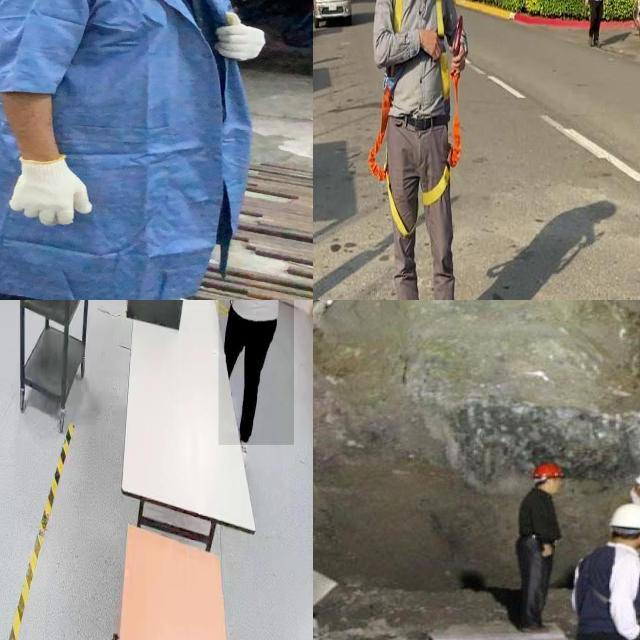Harness: (369, 89, 414, 238), (423, 72, 461, 208)
hand_glove: (2, 151, 108, 229), (209, 14, 273, 61)
hand_noglove: (537, 541, 556, 557)
head_helmet: (607, 502, 640, 532), (530, 462, 565, 479), (632, 468, 640, 493)
person: (0, 0, 300, 300), (218, 300, 294, 445), (510, 459, 570, 639), (570, 502, 640, 640)
shoes: (518, 614, 552, 634)
